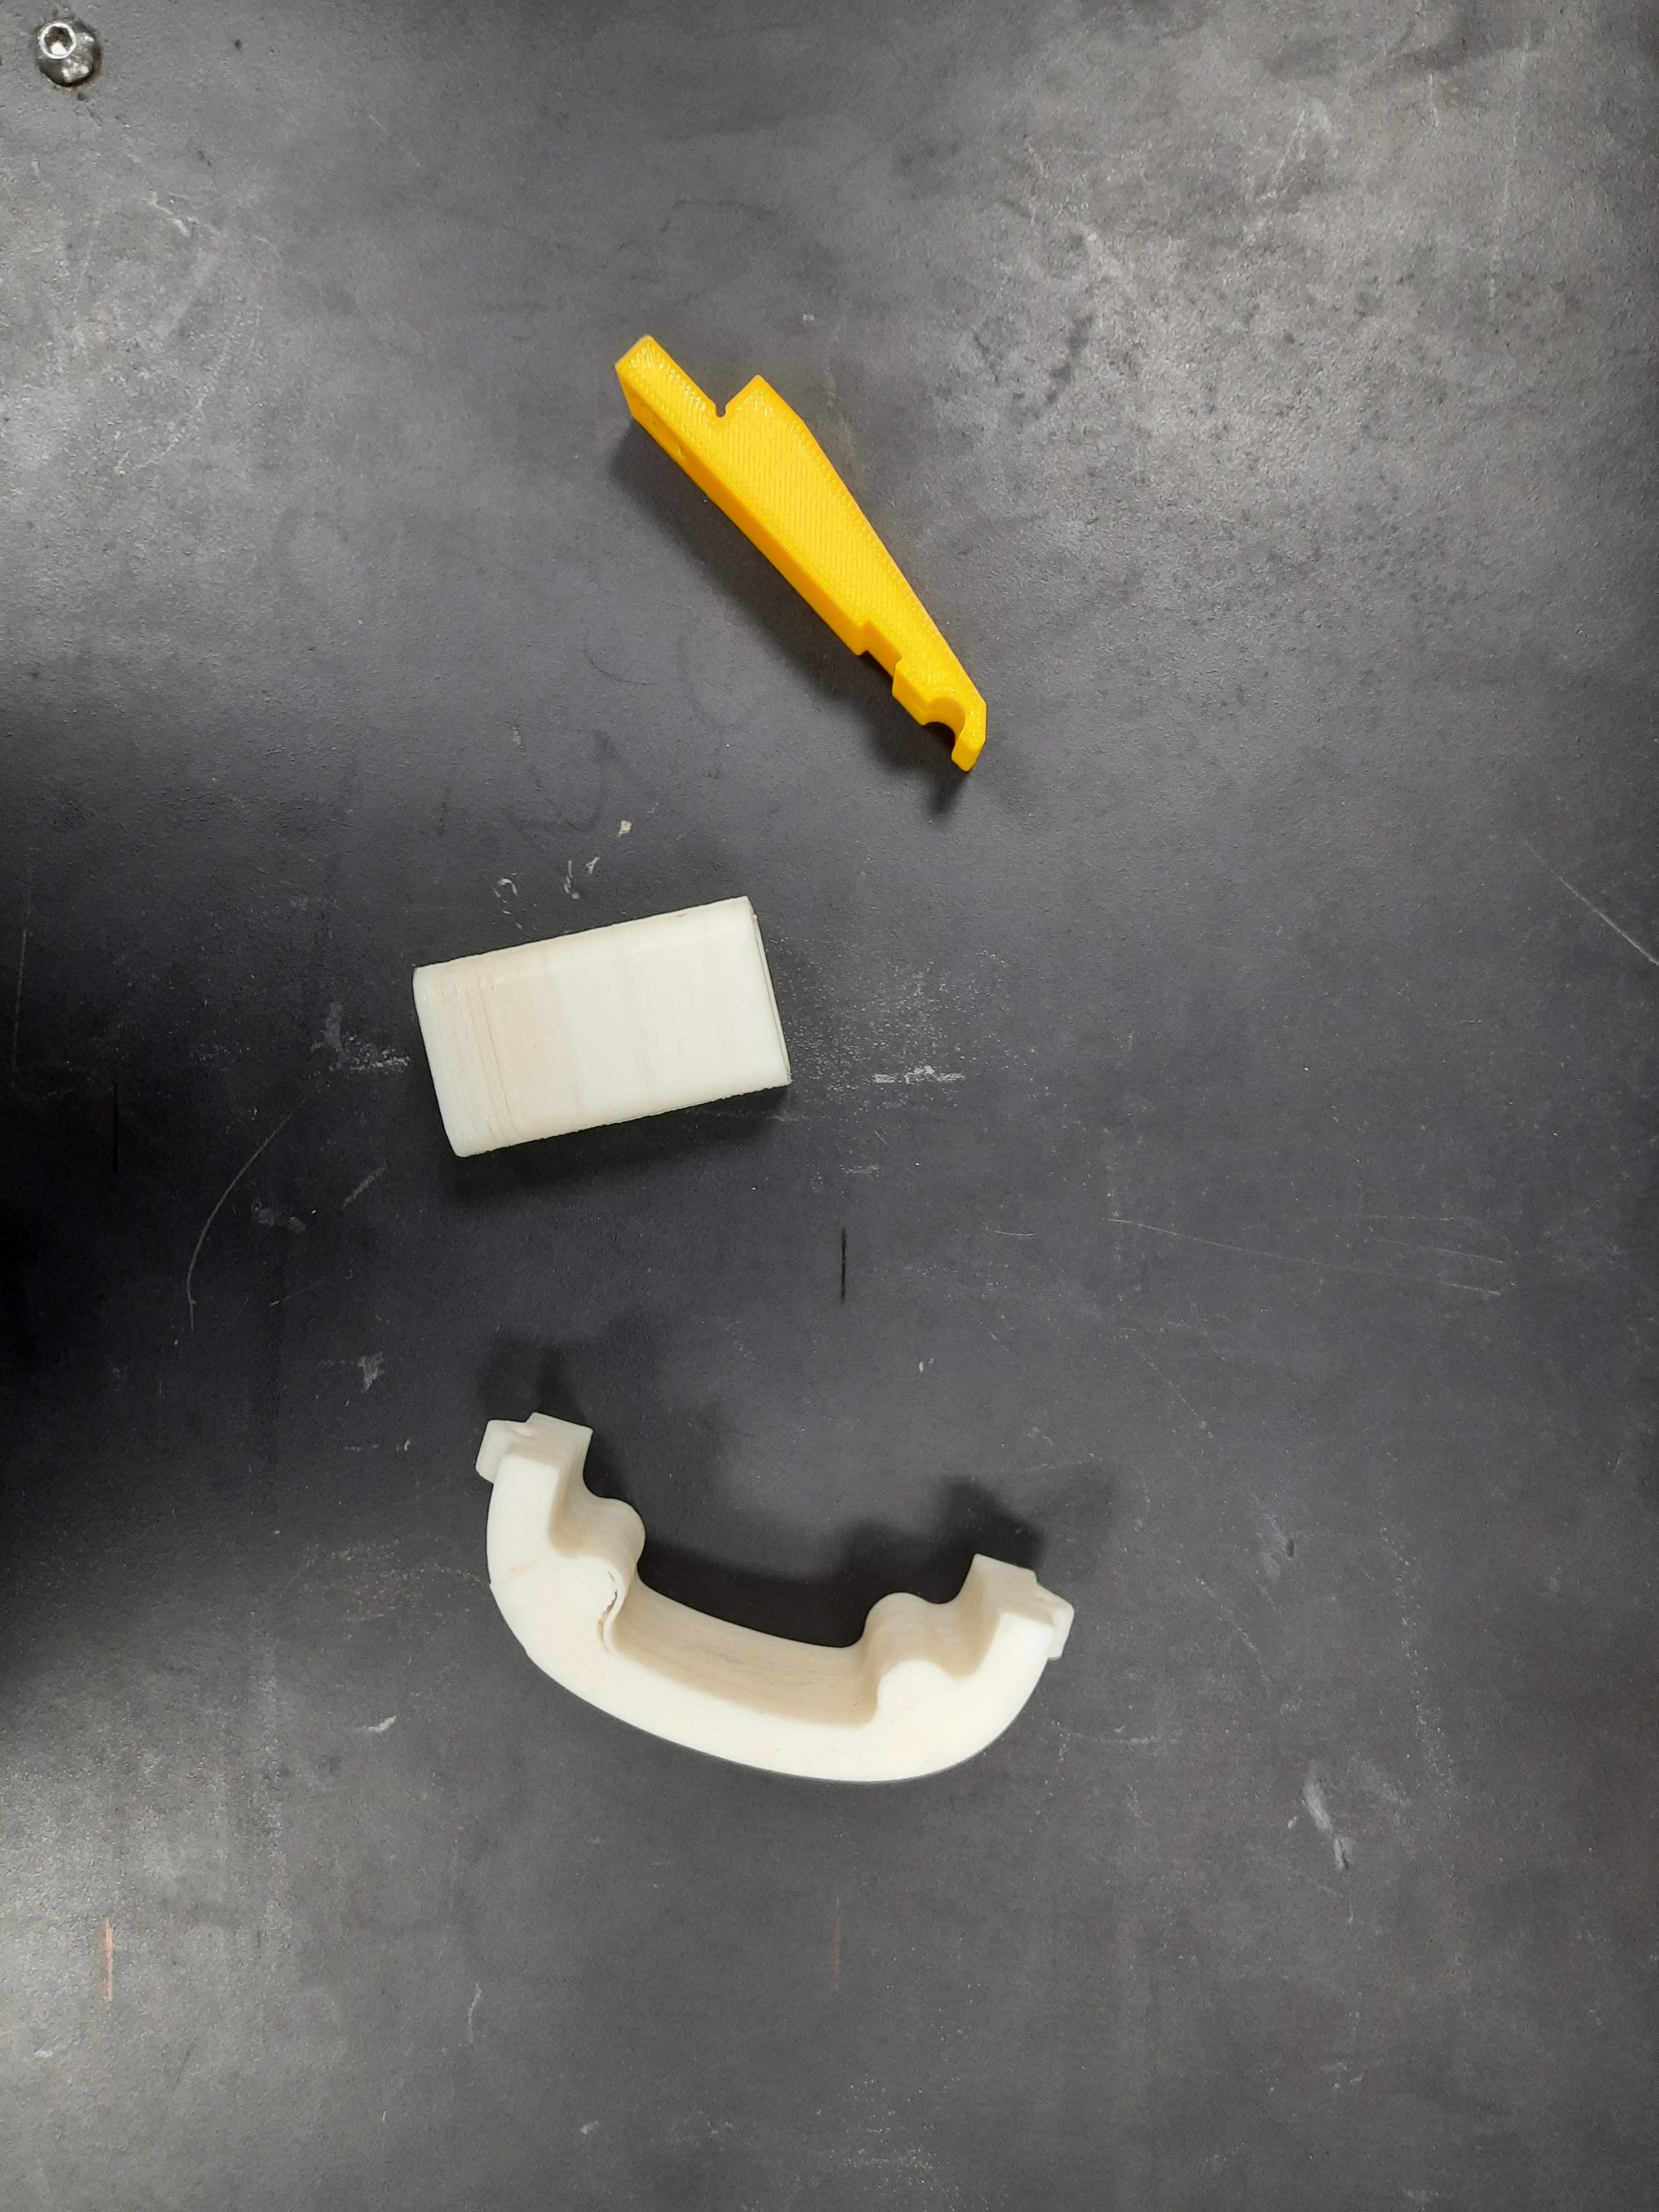ARC: (410, 1395, 1086, 1855)
CUBE: (418, 894, 788, 1151)
YELLOW: (589, 282, 1058, 768)
